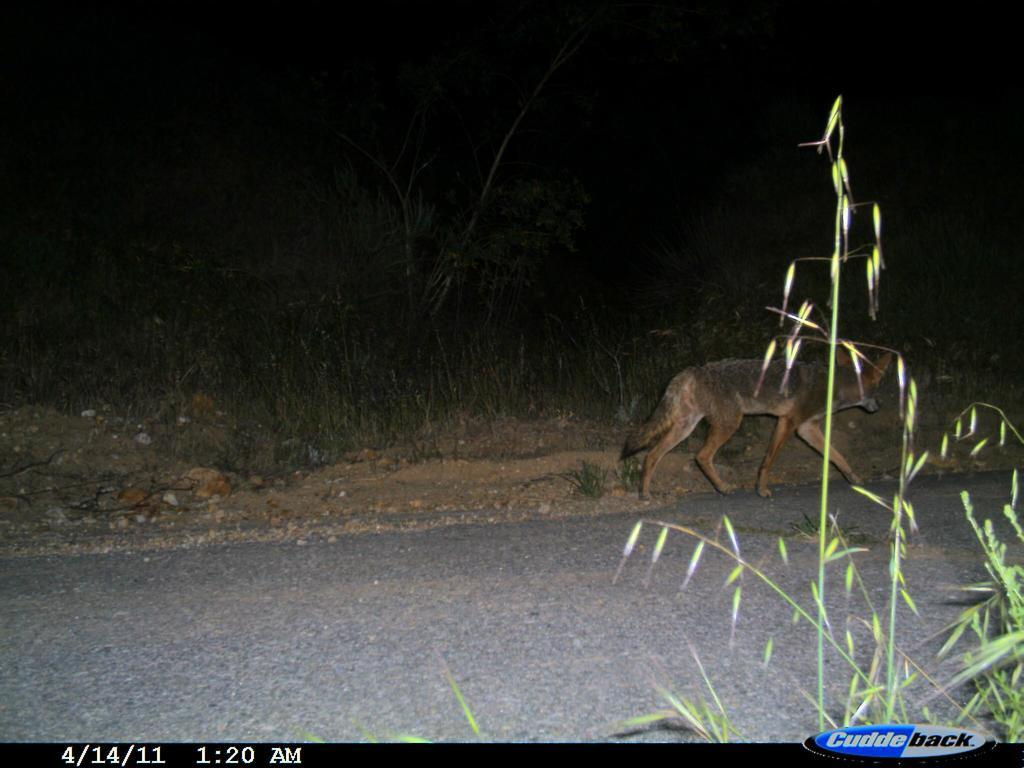coyote: (617, 332, 900, 511)
